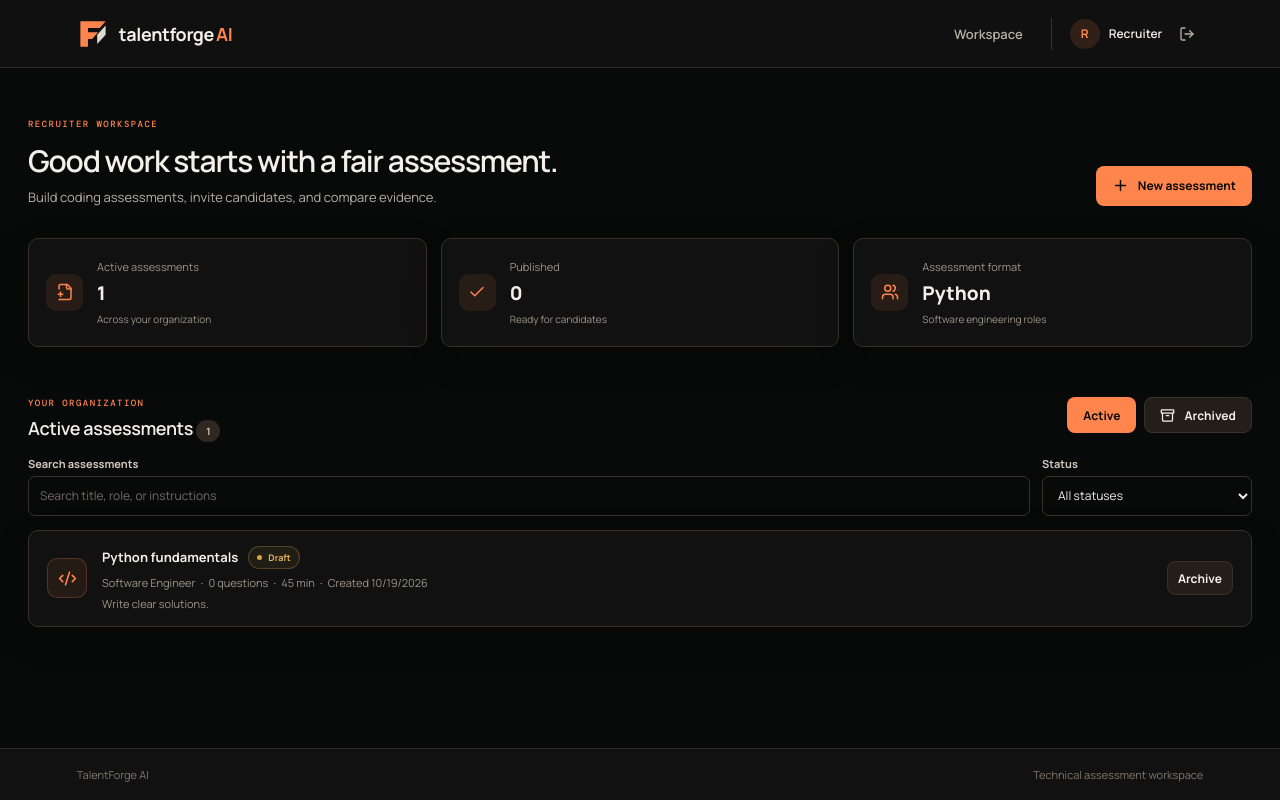
Test case: recruiter assessment CRUD › keeps an assessment visible and reports server errors when archiving fails
Click the button "Archive" at (1200, 578), box [1167,561,1233,595]
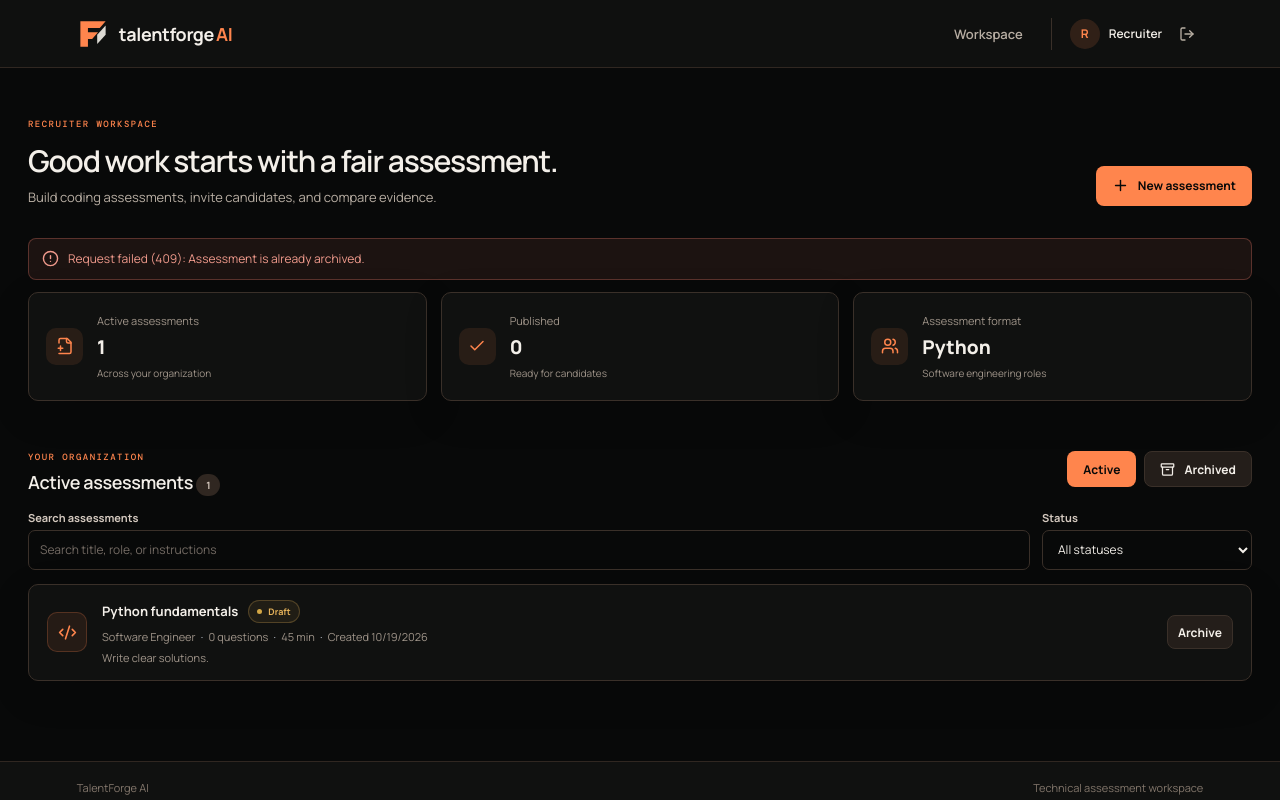
Expected: the heading "Python fundamentals" is shown, [102,602,238,620]
Expected: the text "Request failed (409): Assessment is already archived." is shown, [28,238,1252,280]
